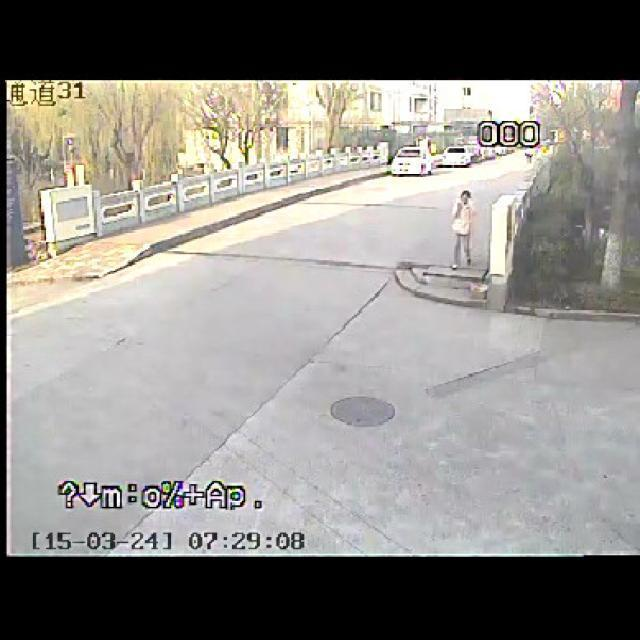person: (441, 180, 482, 274)
